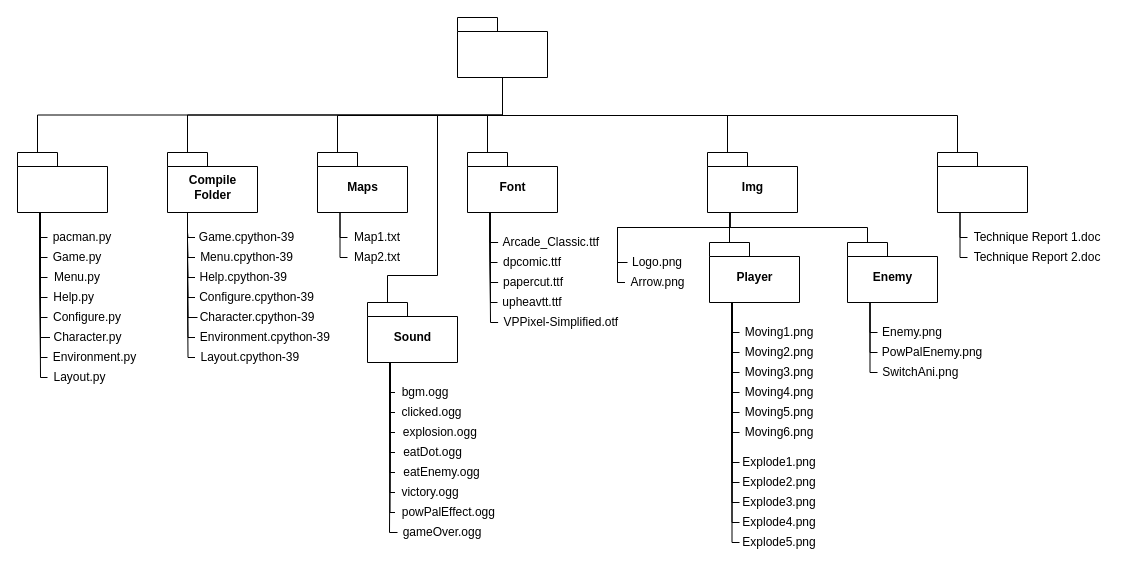
Some shapes in this 1125 by 570 pixel diagram are drawn without their labels. The centre of each missing label's shape, as x and y in pixels:
"Doc" belongs at (982,182).
"Pac-man System Module" belongs at (502,47).
"Source Code" belongs at (62,182).
